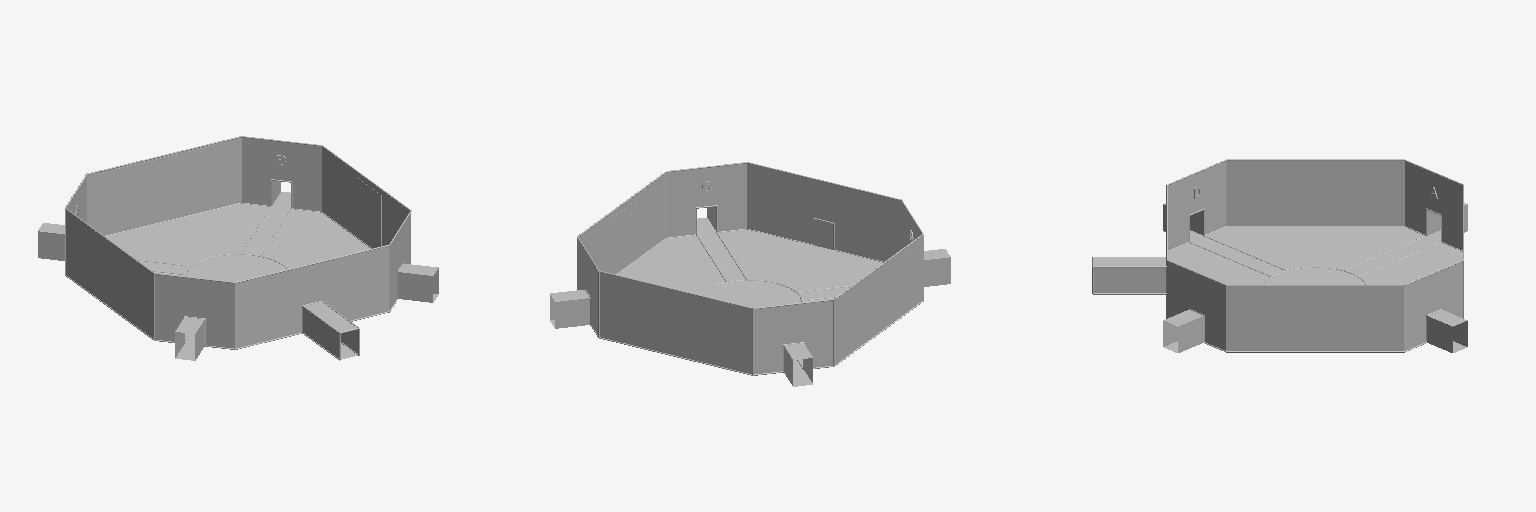
File: NewPlatform1.obj
3 renders of one model, left to right at view 1: azimuth 30°, elevation 25°; view 2: azimuth 150°, elevation 25°; view 3: azimuth 270°, elevation 25°, orthographic.
Parts seen in each view (by area): view 1: Plane.007, Plane.014, Plane.015, Plane.003, Plane.021, Plane.018, Plane.006, Plane.004, Plane.027, Plane.022, Plane.011; view 2: Plane.007, Plane.014, Plane.006, Plane.003, Plane.011, Plane.027, Plane.004, Plane.018, Plane.015, Plane.022, Plane.021; view 3: Plane.007, Plane.004, Plane.003, Plane.027, Plane.018, Plane.011, Plane.021, Plane.023, Plane.014.
Part boxes in pixels (x1,y1,x2,y2): Plane.007: (106, 204, 370, 344); Plane.014: (235, 246, 388, 359); Plane.015: (112, 145, 215, 231); Plane.003: (66, 210, 153, 338); Plane.021: (155, 275, 234, 360); Plane.018: (242, 138, 321, 211); Plane.006: (88, 138, 240, 235); Plane.004: (322, 147, 409, 248); Plane.027: (389, 213, 438, 310); Plane.022: (352, 174, 381, 246); Plane.011: (38, 177, 86, 260); Plane.007: (618, 230, 881, 370); Plane.014: (747, 163, 900, 261); Plane.006: (600, 272, 751, 373); Plane.003: (835, 236, 922, 364); Plane.011: (754, 301, 832, 386); Plane.027: (666, 163, 746, 237); Plane.004: (579, 173, 665, 273); Plane.018: (550, 239, 597, 334); Plane.015: (624, 280, 727, 359); Plane.022: (607, 200, 636, 272); Plane.021: (901, 202, 950, 286); Plane.007: (1168, 227, 1462, 284); Plane.004: (1226, 286, 1403, 350); Plane.003: (1227, 161, 1403, 225); Plane.027: (1163, 261, 1225, 352); Plane.018: (1404, 262, 1467, 352); Plane.011: (1405, 161, 1467, 249); Plane.021: (1163, 161, 1225, 249); Plane.023: (1286, 166, 1344, 219); Plane.014: (1094, 258, 1165, 292).
Size of the model in its own units: 20.54 by 5.05 by 25.32.